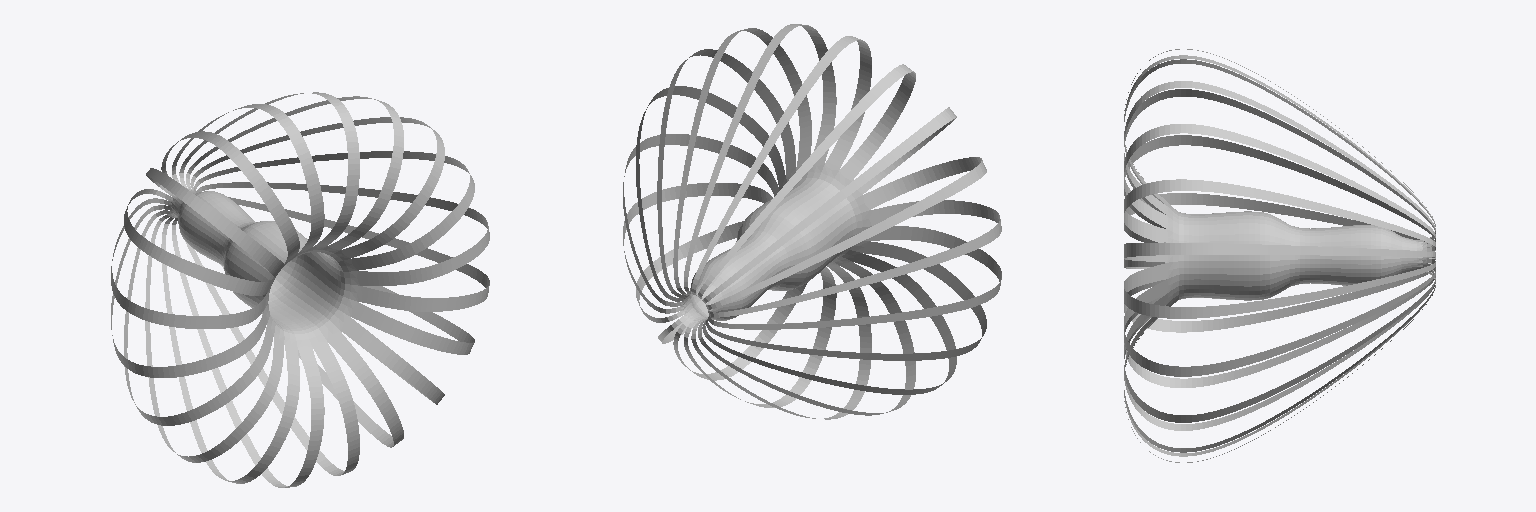
Rendered from lampE.obj.
3 views of the same model, side by side, from view 1: azimuth 30°, elevation 25°; view 2: azimuth 150°, elevation 25°; view 3: azimuth 270°, elevation 25° (orthographic).
Visible parts, largest first — view 1: Cube; view 2: Cube; view 3: Cube.
Part boxes in pixels (left/top/right/bottom): Cube: left=111, top=92, right=489, bottom=487; Cube: left=623, top=24, right=1001, bottom=419; Cube: left=1124, top=49, right=1435, bottom=462.
Size of the model in its own units: 7.66 by 7.66 by 5.84.